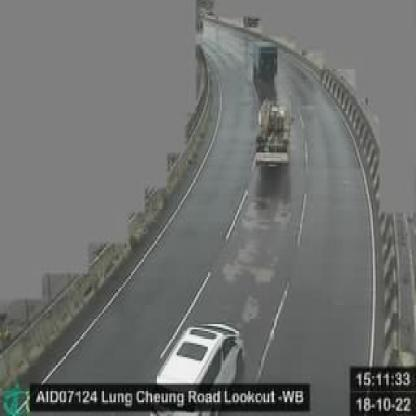Car: (136, 322, 245, 412)
Truck: (255, 98, 293, 173), (252, 39, 280, 84)
